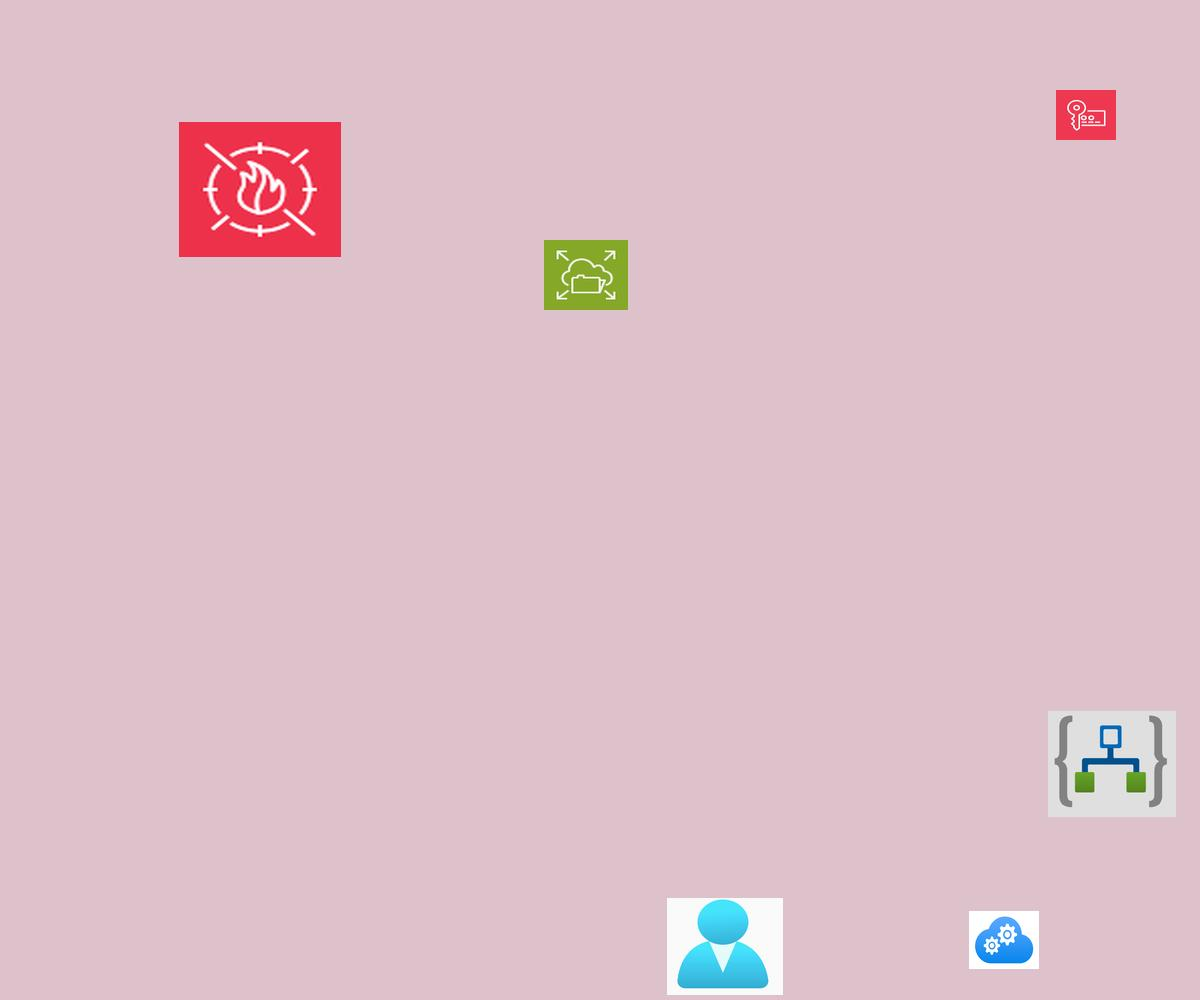AWS-EFS: (544, 240, 628, 310)
AWS-Key-Management-Service: (1056, 90, 1116, 140)
AWS-WAF: (179, 122, 341, 257)
Azure_cloud_services: (969, 911, 1039, 969)
Azure_integration-204-Logic-Apps: (1048, 711, 1176, 817)
Azure_users: (667, 898, 783, 995)
